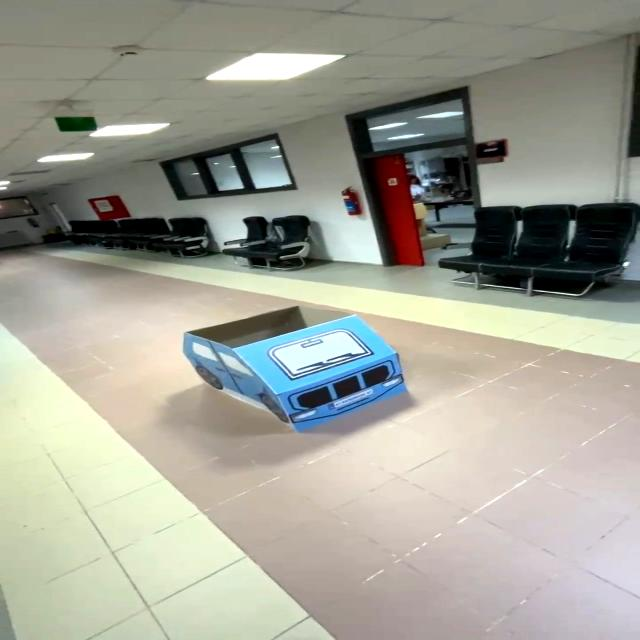blue_car: (149, 292, 445, 443)
